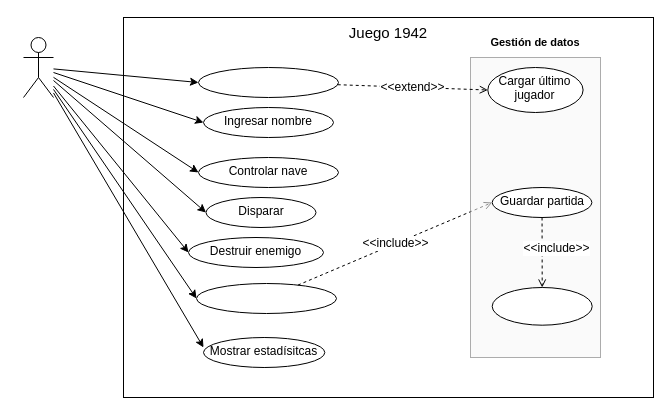
The diagram is 671 pixels wide and 415 high, and some of its shapes have lost their labels. Each missing label, with the centre of its shape:
"Actualizar estadísticas" goes at pixel 541 305.
"Finalizar partida" goes at pixel 266 298.
"Iniciar Partida" goes at pixel 268 82.
"Jugador" goes at pixel 38 67.
